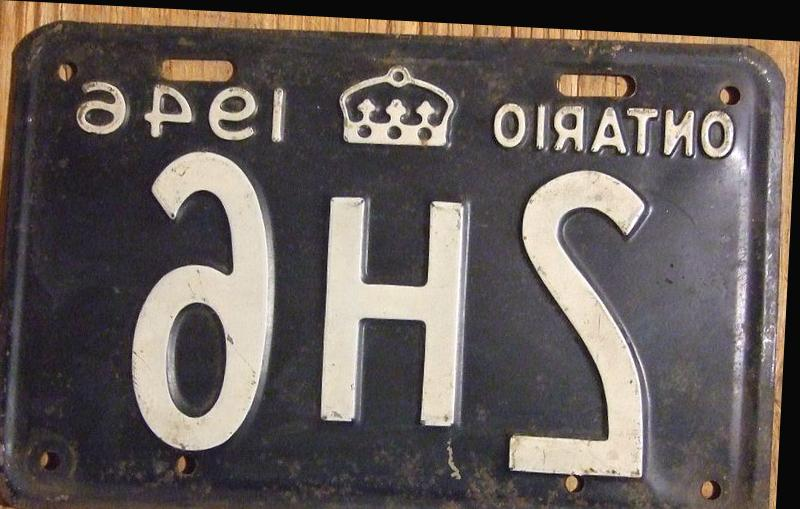License_Plate: (0, 19, 783, 509)
